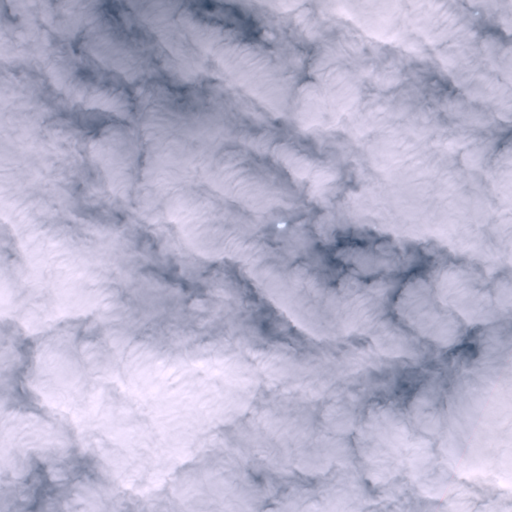Iceberg: (277, 222, 286, 227)
